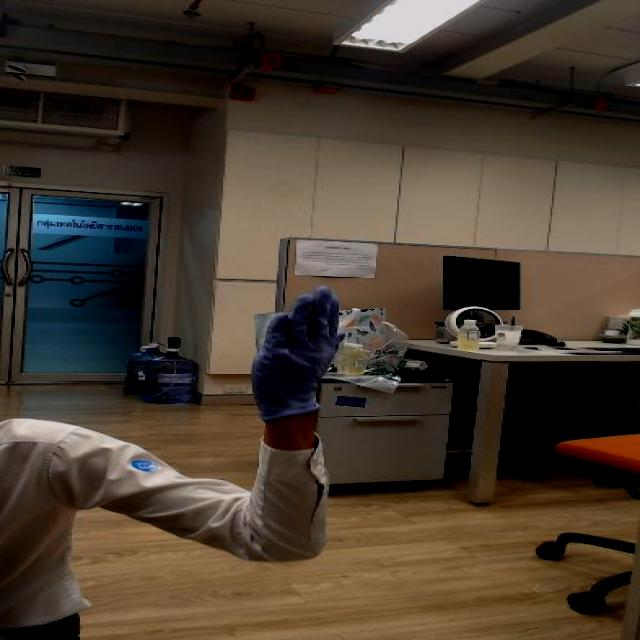glove: (227, 284, 366, 396)
